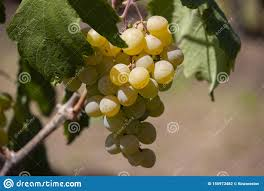grapes: (107, 22, 173, 174)
